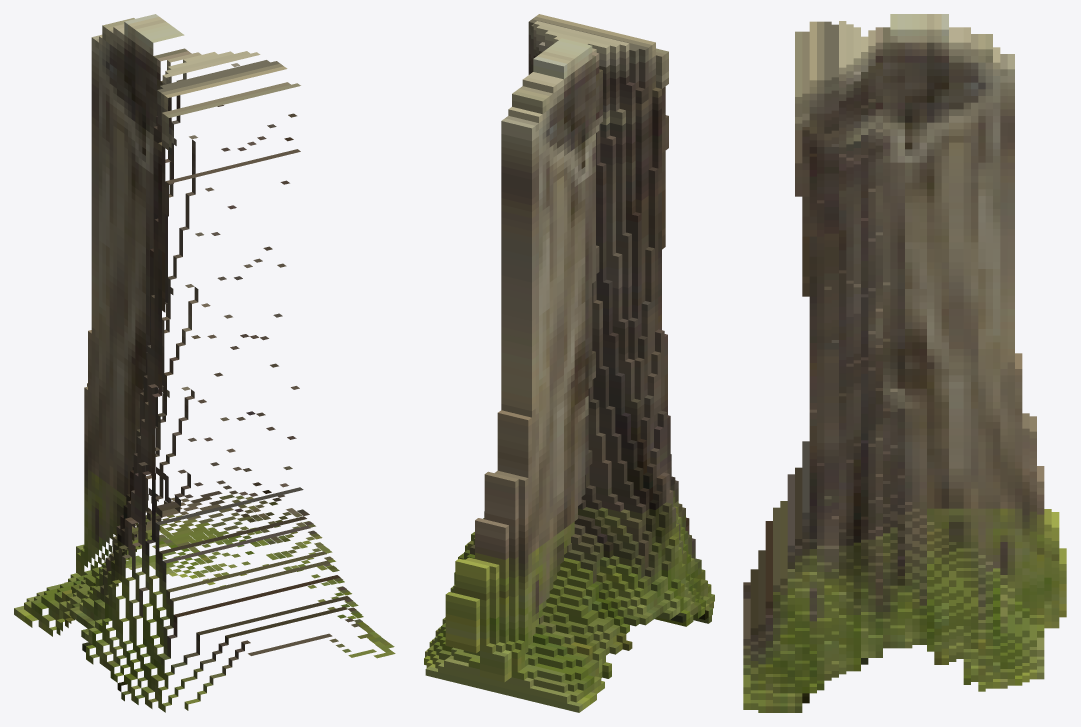
The picture shows the model from 3 angles, left to right: view 1: azimuth 30°, elevation 25°; view 2: azimuth 150°, elevation 25°; view 3: azimuth 270°, elevation 25°; orthographic projection. The views are drawn at different scales.
Parts seen in each view (by area): view 1: world; view 2: world; view 3: world.
Part boxes in pixels (x1=…): world: x1=14, y1=14, x2=395, y2=712; world: x1=424, y1=14, x2=714, y2=712; world: x1=743, y1=14, x2=1066, y2=712.
Bounding box in the file's own units: 0.8519 × 1.93 × 0.9143.
